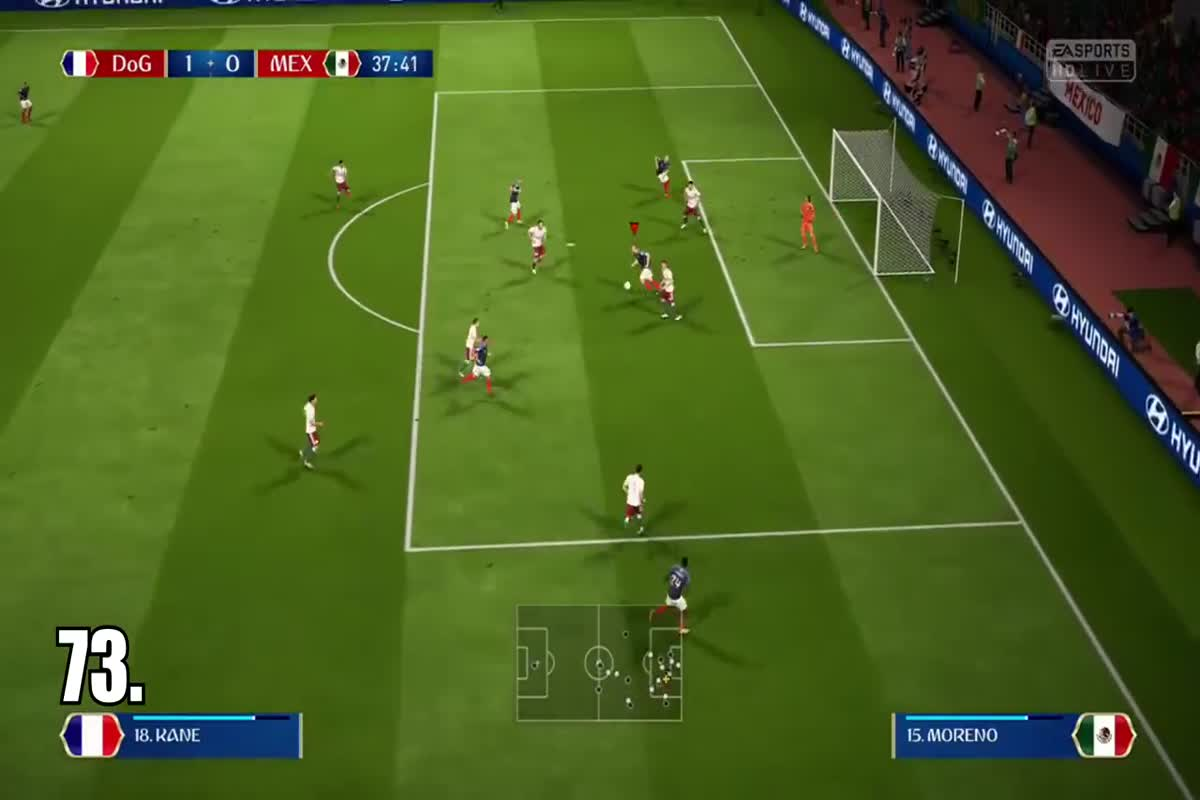ball: (615, 275, 637, 296)
